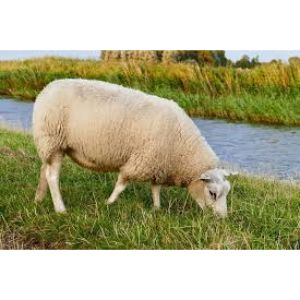sheep: (27, 80, 236, 221)
